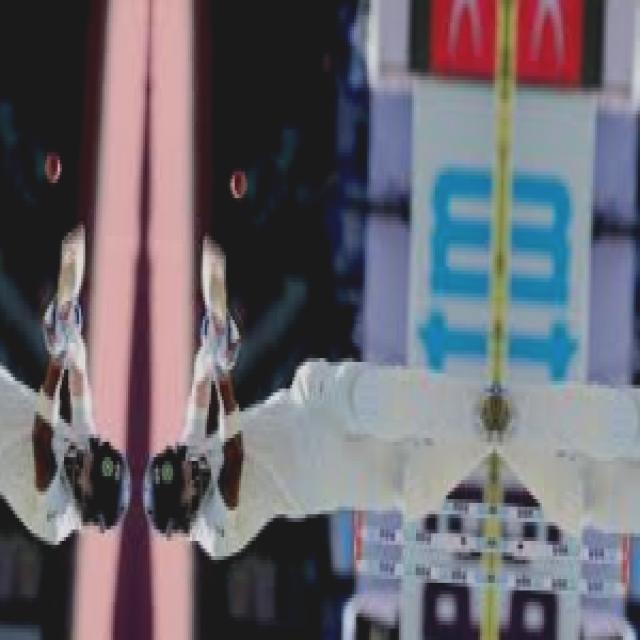toe: (201, 235, 236, 276)
